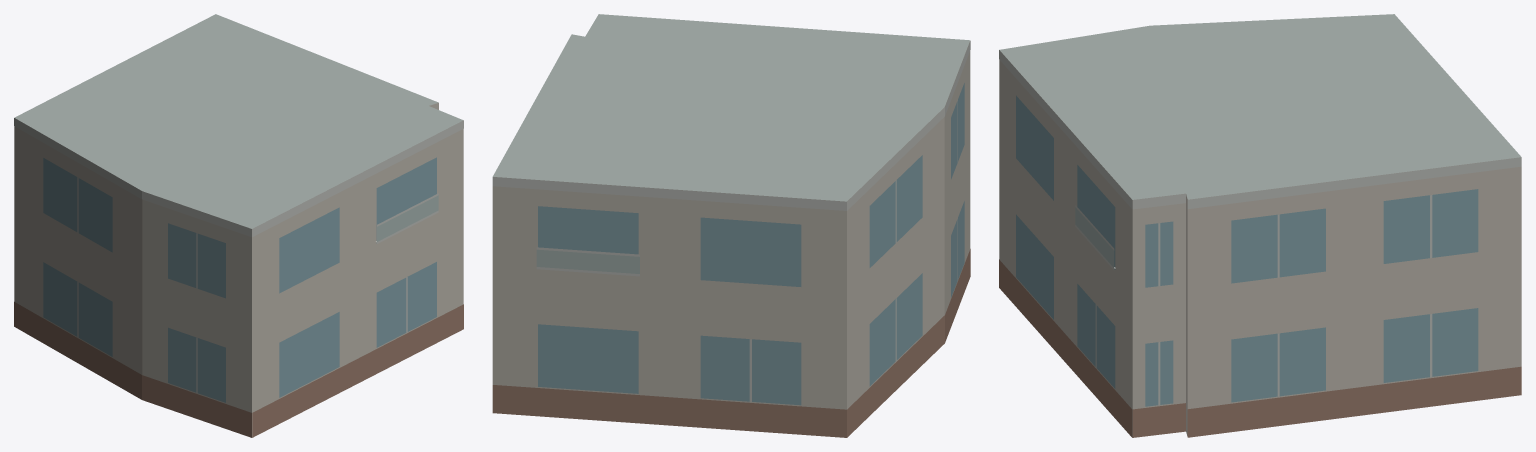
The model's file is survey-upis-32657382.glb.
3 views of the same model, side by side, from view 1: azimuth 30°, elevation 25°; view 2: azimuth 150°, elevation 25°; view 3: azimuth 270°, elevation 25° (orthographic). The views are drawn at different scales.
Visible parts, largest first — view 1: survey-upis-32657382.tmp; view 2: survey-upis-32657382.tmp; view 3: survey-upis-32657382.tmp.
Boxes of the visible parts, x1=… form: survey-upis-32657382.tmp: x1=14, y1=14, x2=463, y2=437; survey-upis-32657382.tmp: x1=492, y1=14, x2=970, y2=437; survey-upis-32657382.tmp: x1=999, y1=14, x2=1521, y2=437.
Size of the model in its own units: 10.23 by 6.1 by 12.15.
